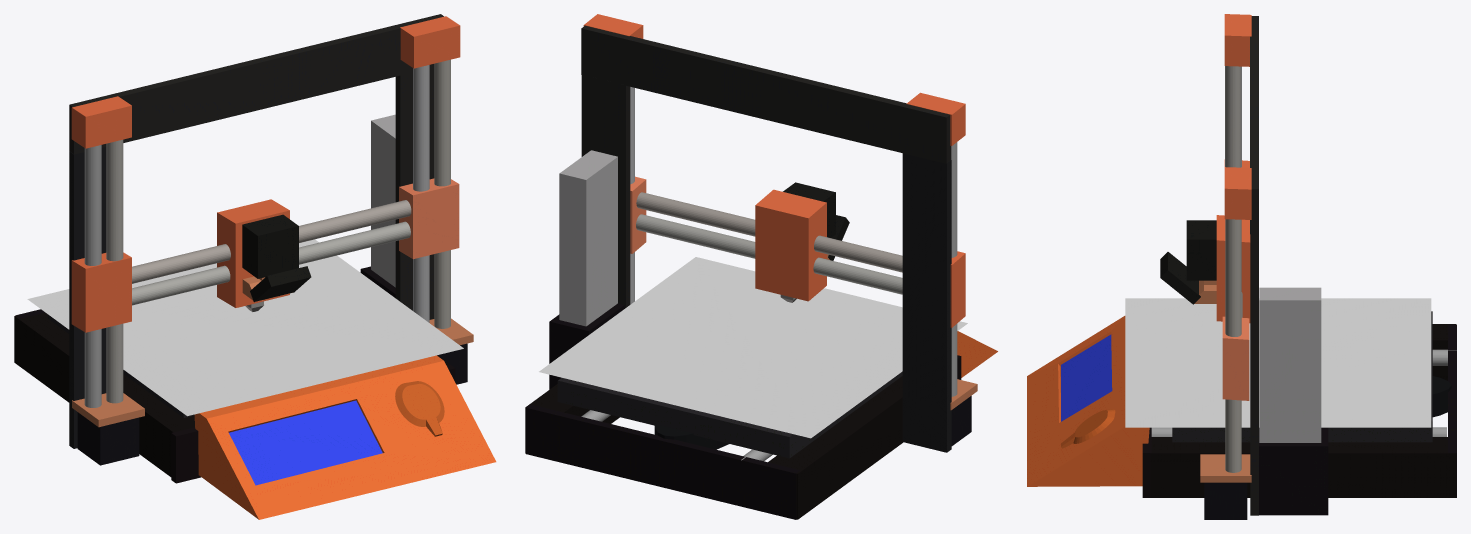
The model's file is printer-3d.glb.
3 renders of one model, left to right at view 1: azimuth 30°, elevation 25°; view 2: azimuth 150°, elevation 25°; view 3: azimuth 270°, elevation 25°, orthographic. The views are drawn at different scales.
Visible parts, largest first — view 1: Cube_Material_0; view 2: Cube_Material_0; view 3: Cube_Material_0.
Part boxes in pixels (x1,y1,x2,y2): Cube_Material_0: (14,14,496,519); Cube_Material_0: (525,14,997,519); Cube_Material_0: (1027,14,1456,519).
Size of the model in its own units: 0.6648 by 0.5895 by 0.69.
1 material, 1 textured.
